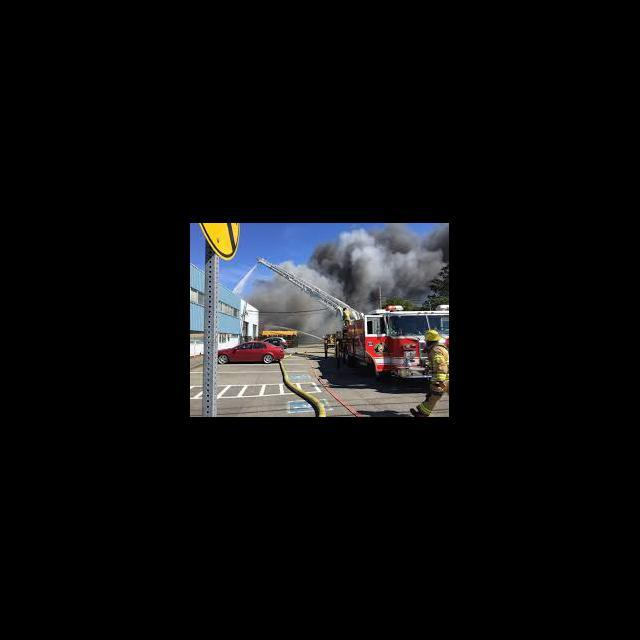Smoke: (312, 226, 447, 302), (260, 262, 336, 332)
